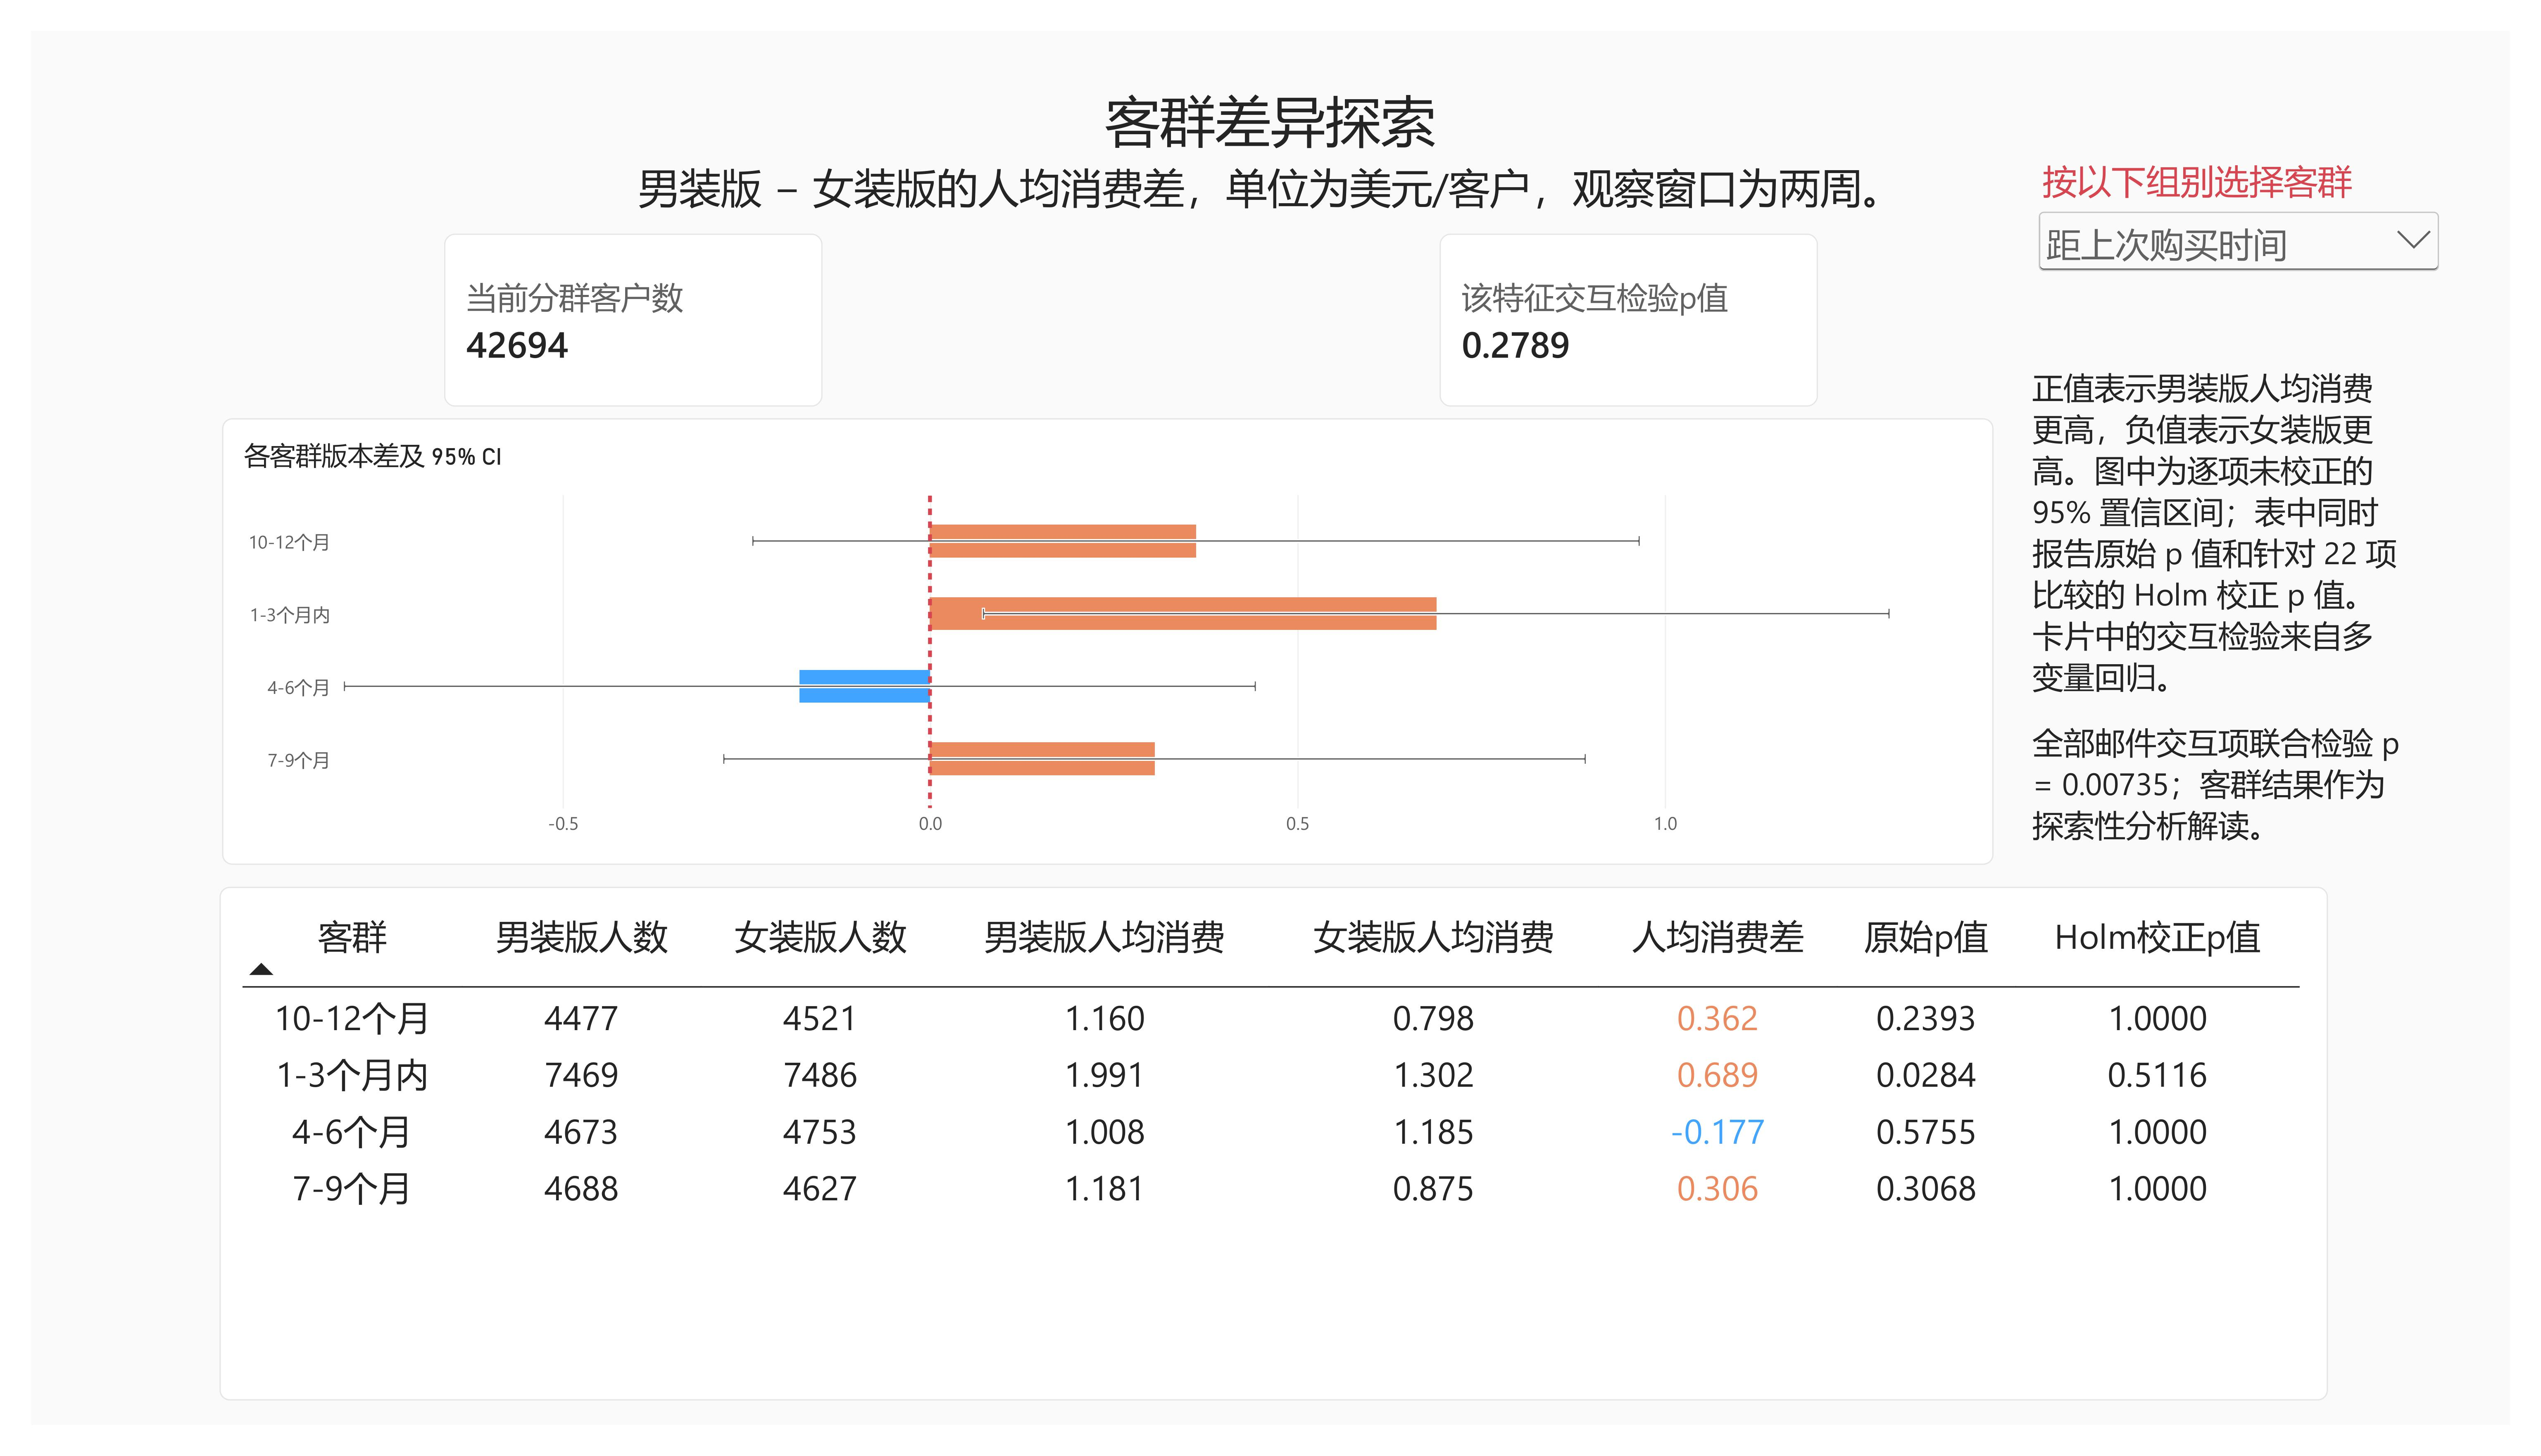

Layout of this report page (visuals, bound fields, positions):
{"tool":"powerbi","page":{"name":"客群差异探索","canvas":[1920,1080],"ordinal":1},"visuals":[{"type":"textbox","box":[816.1,39,287.5,76.8],"z":0},{"type":"textbox","box":[435.7,98,1048.2,58.9],"z":1},{"type":"slicer","fields":{"Values":["SubgroupResults.group_type"]},"box":[1550,98.2,319.6,155.4],"z":2},{"type":"cardVisual","fields":{"Data":["SubgroupResults.当前分群客户数"]},"box":[319.6,157.1,292.9,133.9],"z":3},{"type":"cardVisual","fields":{"Data":["SubgroupResults.该特征交互检验p值"]},"box":[1091.1,157.1,292.9,133.9],"z":4},{"type":"clusteredBarChart","title":"各客群版本差及 95% CI","fields":{"Category":["SubgroupResults.group_label"],"Y":["Sum(SubgroupResults.diff)"]},"box":[148.2,300,1371.4,346.4],"z":5},{"type":"tableEx","fields":{"Values":["SubgroupResults.group_label","Max(SubgroupResults.n_mens)","Max(SubgroupResults.n_womens)","Max(SubgroupResults.mean_mens)","Max(SubgroupResults.mean_womens)","Max(SubgroupResults.diff)","Max(SubgroupResults.p_raw)","Max(SubgroupResults.p_holm)"]},"box":[146.4,662.5,1632.2,398.2],"z":6},{"type":"textbox","box":[1550,259,285.7,264.3],"z":7},{"type":"textbox","box":[1550,534.1,285.7,110.7],"z":8}]}

Visuals, with their boxes on the page's 1920x1080 design canvas (x1, y1, x2, y2). These are canvas units, not pixel positions in the 2541x1456 screenshot, which may show the page scaled, cropped or inside an application window:
textbox: 816 39 1104 116
textbox: 436 98 1484 157
slicer - SubgroupResults.group_type: 1550 98 1870 254
cardVisual - SubgroupResults.当前分群客户数: 320 157 612 291
cardVisual - SubgroupResults.该特征交互检验p值: 1091 157 1384 291
"各客群版本差及 95% CI" clusteredBarChart: 148 300 1520 646
tableEx - SubgroupResults.group_label x Max(SubgroupResults.n_mens): 146 662 1779 1061
textbox: 1550 259 1836 523
textbox: 1550 534 1836 645
